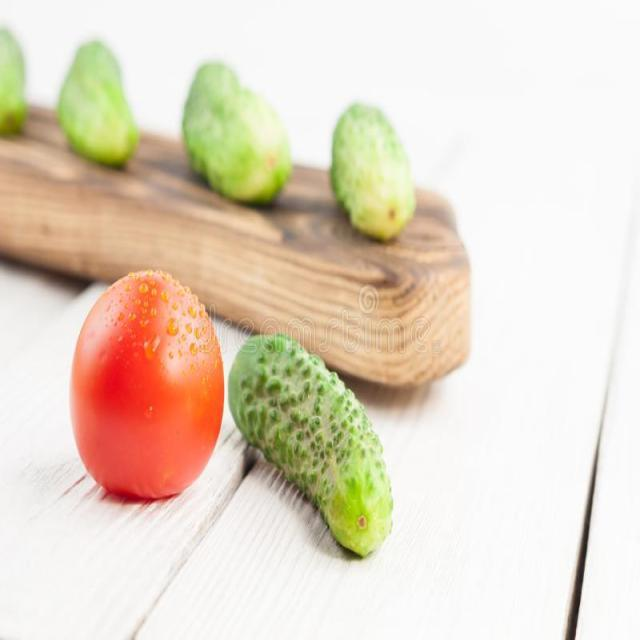kirmizi: (32, 266, 230, 512)
